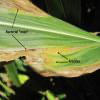Corn leaf blight: (1, 1, 99, 75)
